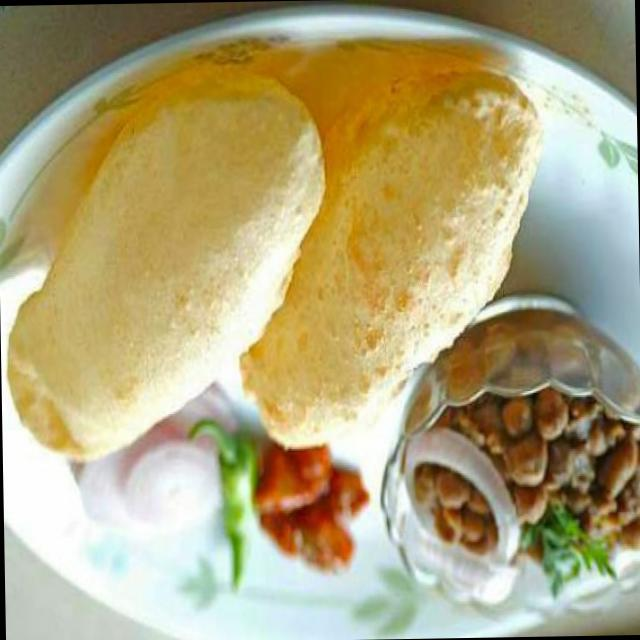Bhatura: (2, 55, 549, 462)
